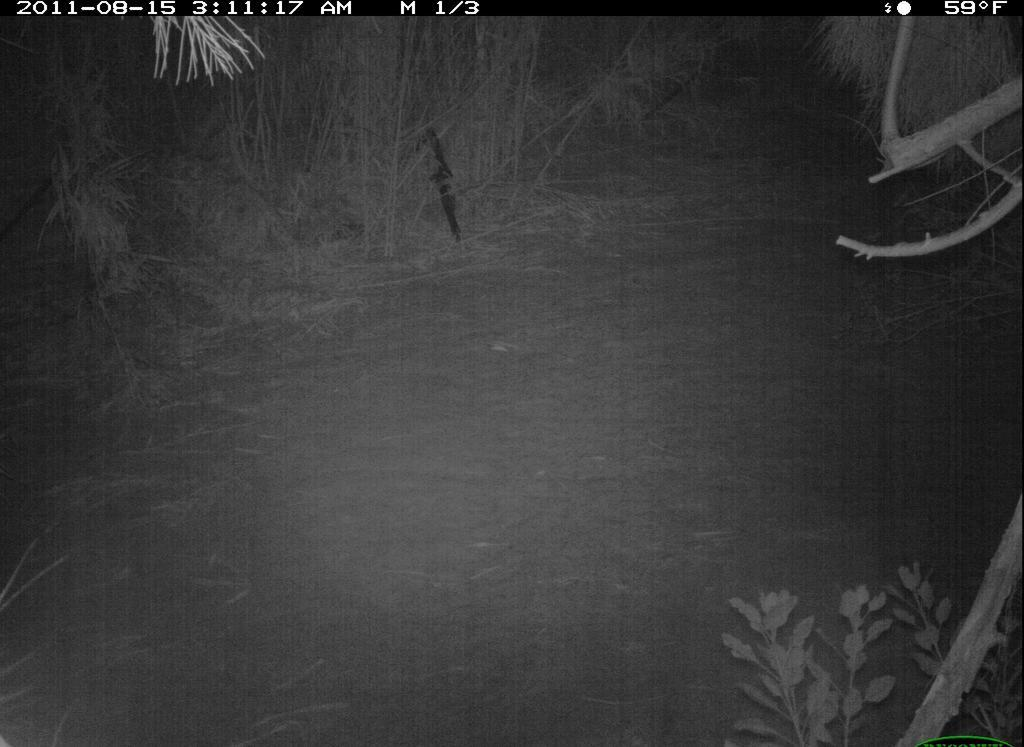raccoon: (386, 107, 498, 251)
